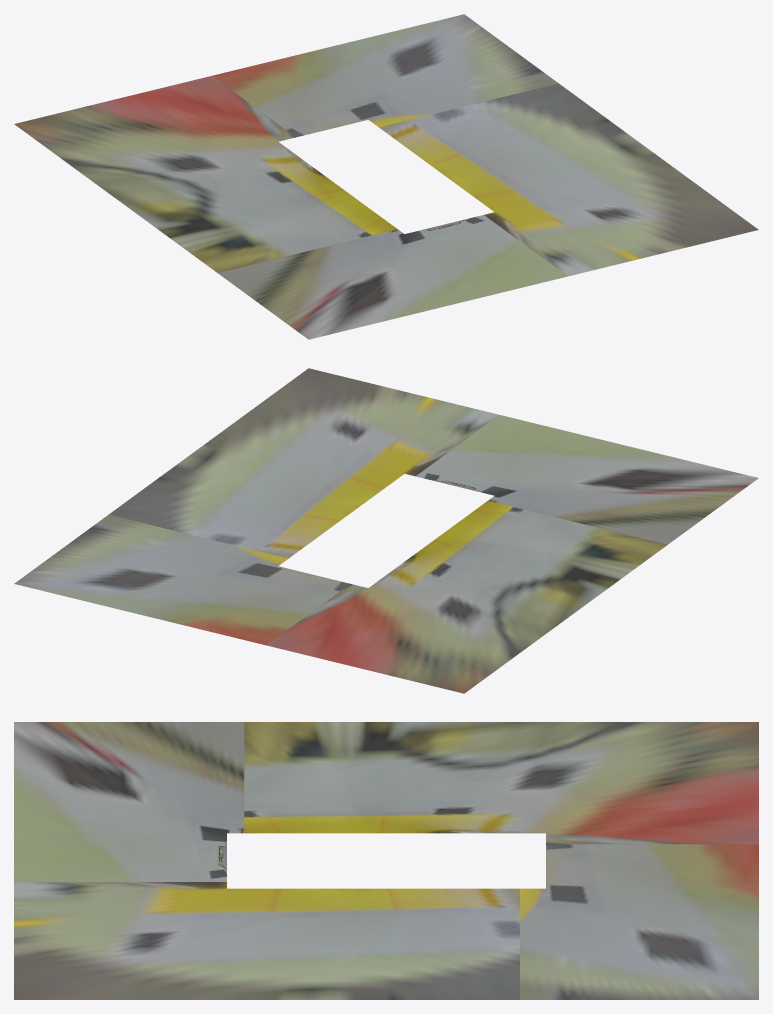
3 views of the same model, one above another, from view 1: azimuth 30°, elevation 25°; view 2: azimuth 150°, elevation 25°; view 3: azimuth 270°, elevation 25° (orthographic). The views are drawn at different scales.
Parts seen in each view (by area): view 1: right, left, rear_right, rear_left, front_right, front_left, front, rear; view 2: left, right, rear_right, rear_left, front_right, front_left, front, rear; view 3: right, left, rear_right, rear_left, front_right, front_left, front, rear.
Boxes of the visible parts, x1=… form: right: x1=109, y1=149, x2=397, y2=272; left: x1=379, y1=83, x2=667, y2=206; rear_right: x1=14, y1=76, x2=295, y2=193; rear_left: x1=273, y1=14, x2=558, y2=127; front_right: x1=218, y1=229, x2=500, y2=339; front_left: x1=484, y1=163, x2=758, y2=276; front: x1=417, y1=215, x2=567, y2=292; rear: x1=212, y1=61, x2=357, y2=137; left: x1=109, y1=435, x2=397, y2=558; right: x1=379, y1=501, x2=667, y2=624; rear_right: x1=266, y1=580, x2=558, y2=693; rear_left: x1=14, y1=514, x2=288, y2=630; front_right: x1=483, y1=431, x2=758, y2=544; front_left: x1=218, y1=368, x2=499, y2=478; front: x1=415, y1=415, x2=566, y2=492; rear: x1=205, y1=569, x2=349, y2=645; right: x1=244, y1=722, x2=519, y2=833; left: x1=244, y1=888, x2=519, y2=999; rear_right: x1=520, y1=722, x2=758, y2=844; rear_left: x1=520, y1=882, x2=758, y2=999; front_right: x1=14, y1=722, x2=244, y2=840; front_left: x1=14, y1=882, x2=244, y2=999; front: x1=14, y1=840, x2=226, y2=881; rear: x1=546, y1=844, x2=758, y2=881.
Bounding box in the file's own units: 9 × 0 × 10.2.
Materials: 8 (8 with a texture image).
